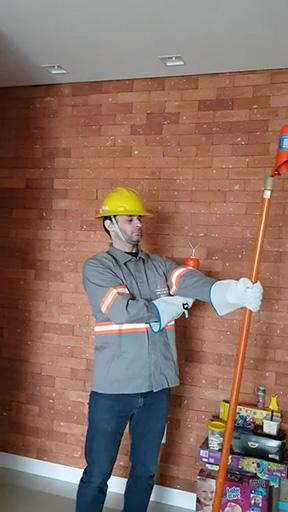Detector_Tensao_Contato: (185, 242, 201, 290)
Vara_Manobra: (210, 176, 276, 512)
